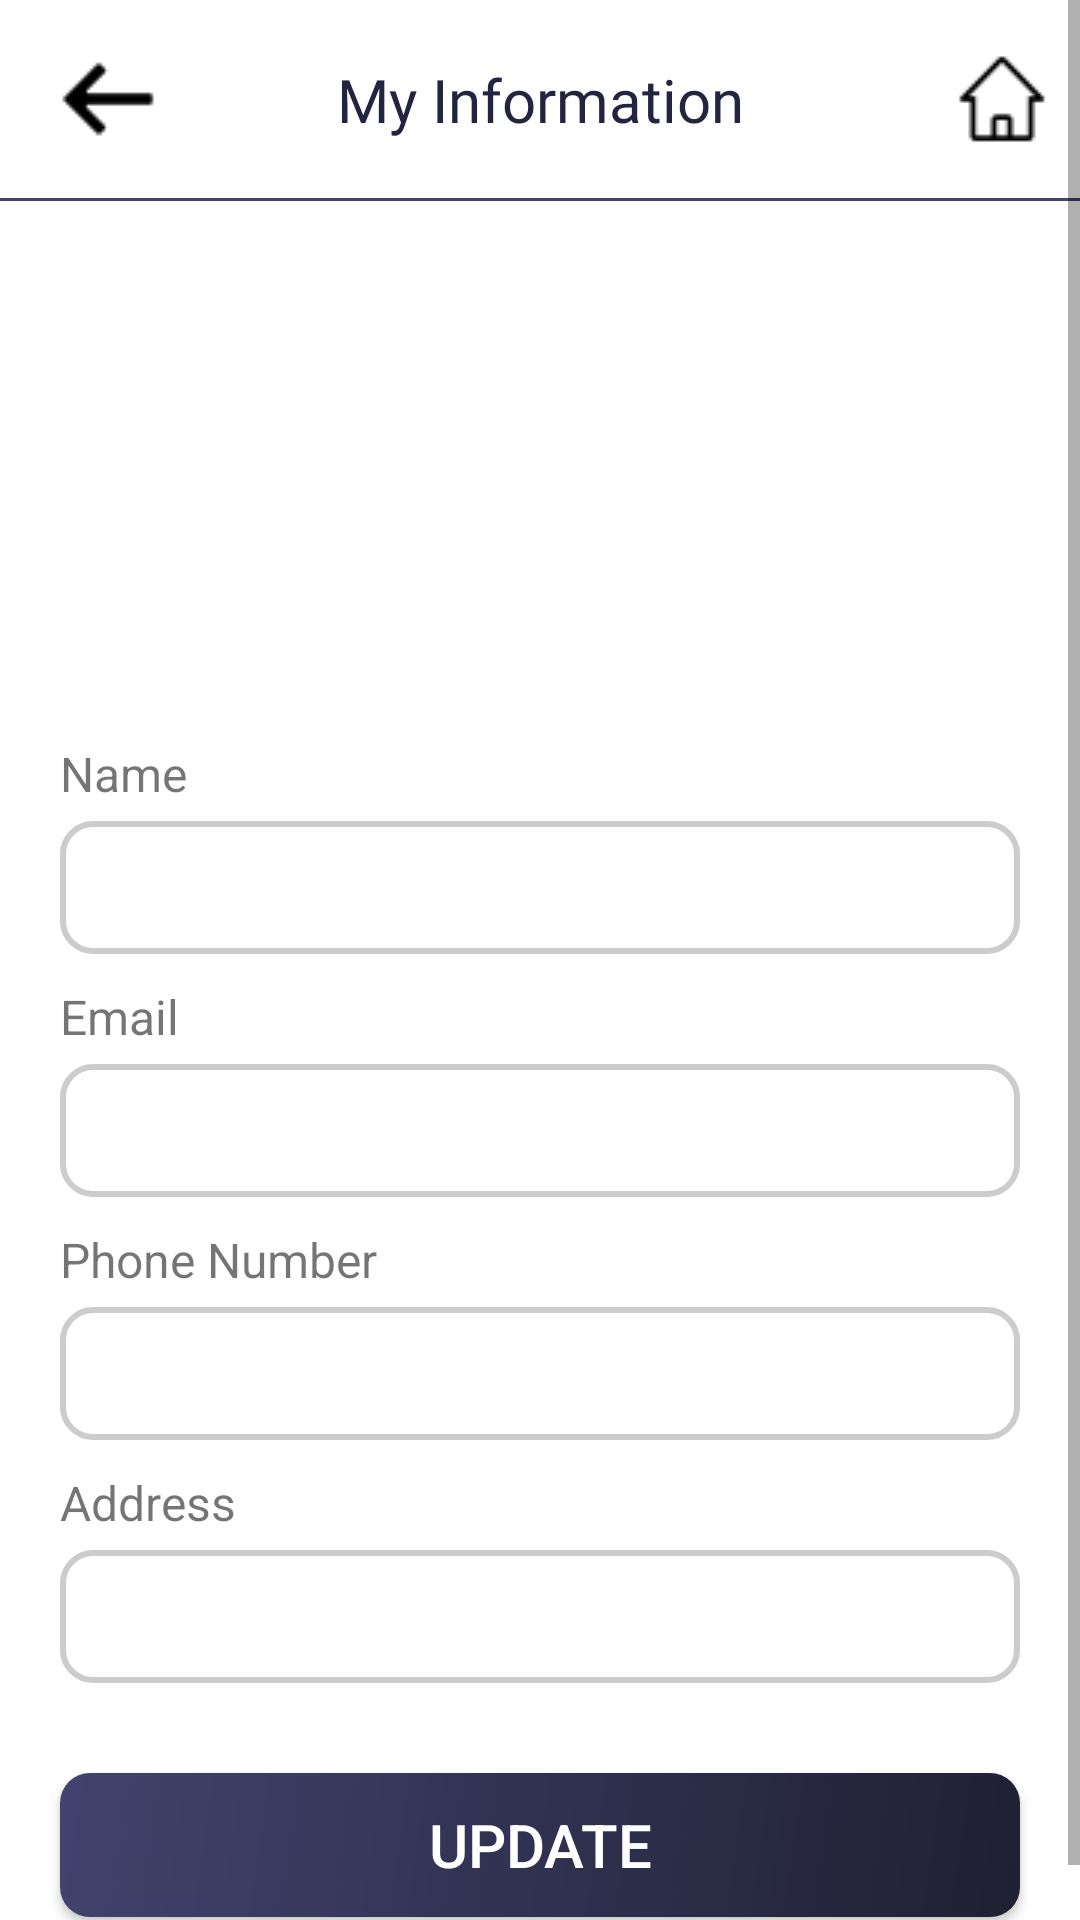

Icons on this 1080×1920 Android screen, each with its box as BBox(x1, y1, x2, y2):
back: BBox(62, 62, 154, 136)
homep: BBox(959, 56, 1045, 142)
